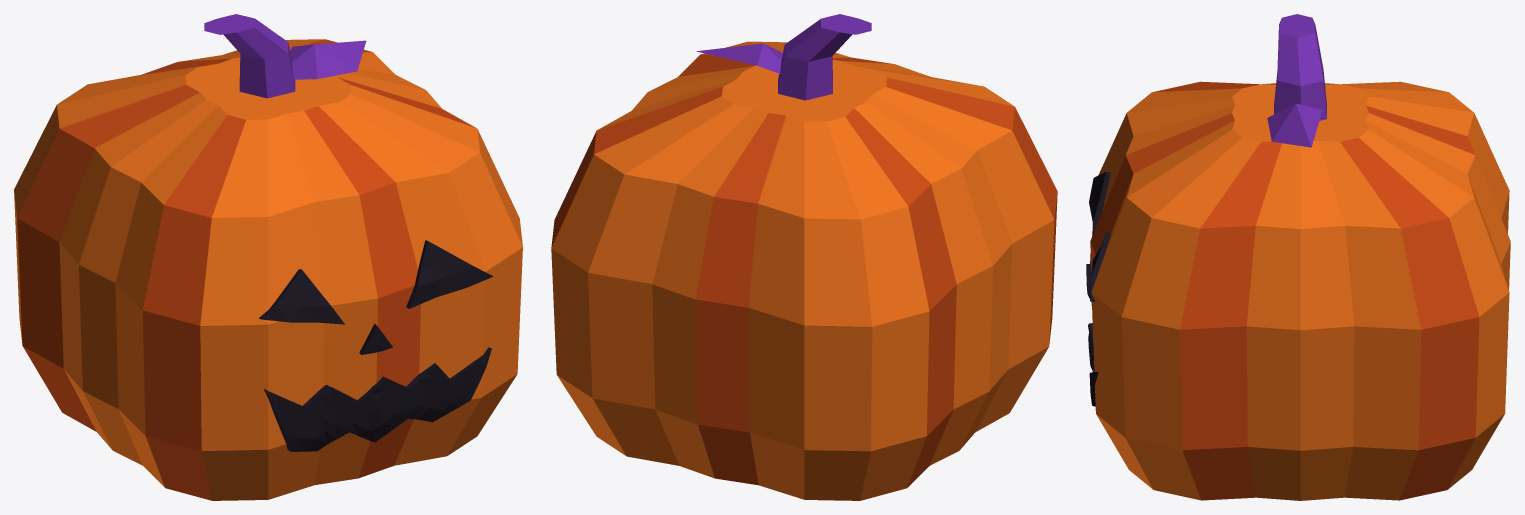
The model's file is HalloweenPumpkin.fbx.
3 views of the same model, side by side, from view 1: azimuth 30°, elevation 25°; view 2: azimuth 150°, elevation 25°; view 3: azimuth 270°, elevation 25° (orthographic). The views are drawn at different scales.
Parts seen in each view (by area): view 1: Handle, PumpkinShade, FaceBlack, Purple; view 2: Handle, PumpkinShade, Purple; view 3: Handle, PumpkinShade, Purple, FaceBlack.
Boxes of the visible parts, x1,y1,x2,y2 form: Handle: (14, 39, 522, 500); PumpkinShade: (17, 39, 475, 500); FaceBlack: (259, 240, 493, 451); Purple: (204, 14, 366, 98); Handle: (551, 41, 1054, 500); PumpkinShade: (551, 54, 1057, 487); Purple: (696, 14, 871, 100); Handle: (1091, 81, 1510, 500); PumpkinShade: (1090, 81, 1479, 500); Purple: (1267, 14, 1326, 147); FaceBlack: (1086, 171, 1111, 406).
Size of the model in its own units: 1.9 by 1.91 by 1.92.
